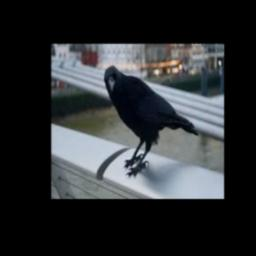Crow: (105, 66, 199, 177)
